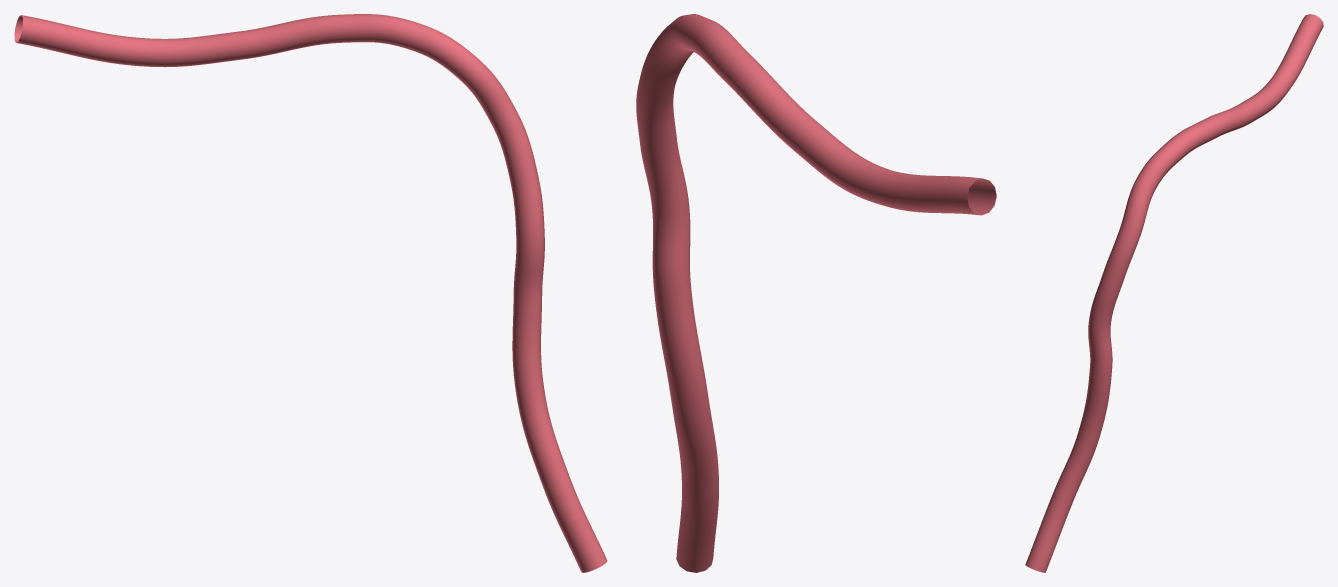
3 views of the same model, side by side, from view 1: azimuth 30°, elevation 25°; view 2: azimuth 150°, elevation 25°; view 3: azimuth 270°, elevation 25° (orthographic). The views are drawn at different scales.
Visible parts, largest first — view 1: ZA_c96d673516614ce2; view 2: ZA_c96d673516614ce2; view 3: ZA_c96d673516614ce2.
Part boxes in pixels (box(x1,y1,x2,y2)): ZA_c96d673516614ce2: box(14, 14, 607, 572); ZA_c96d673516614ce2: box(636, 14, 996, 572); ZA_c96d673516614ce2: box(1025, 14, 1323, 572).
Bounding box in the file's own units: 0.0168 × 0.0202 × 0.0134.
